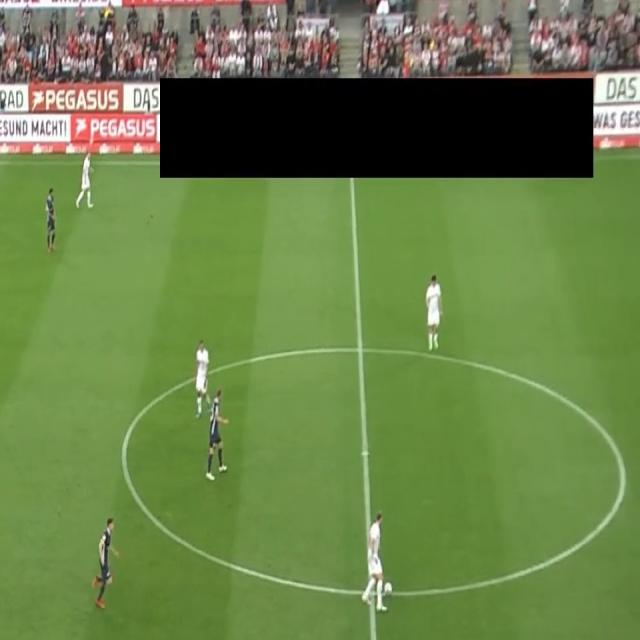ball: (383, 581, 392, 598)
